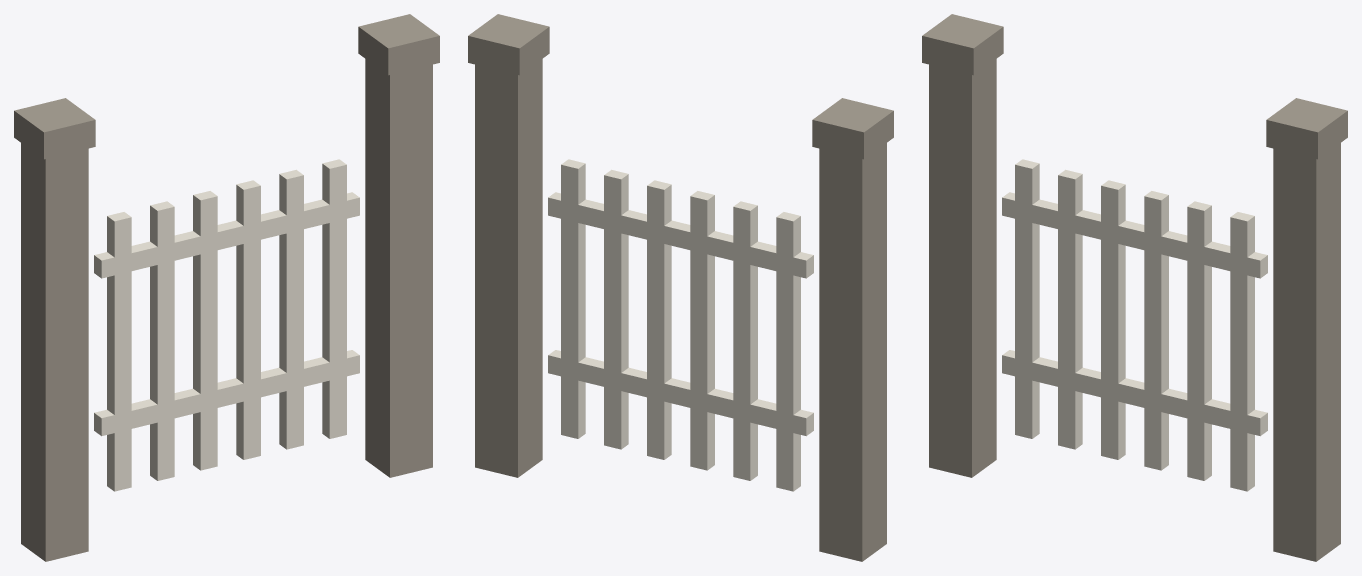
File: garden2_garden_gate.glb
3 renders of one model, left to right at view 1: azimuth 30°, elevation 25°; view 2: azimuth 150°, elevation 25°; view 3: azimuth 330°, elevation 25°, orthographic.
Parts seen in each view (by area): view 1: garden_gate; view 2: garden_gate; view 3: garden_gate.
Boxes of the visible parts, x1,y1,x2,y2 form: garden_gate: (14,14,439,561); garden_gate: (468,14,893,561); garden_gate: (922,14,1347,561).
Bounding box in the file's own units: 0.92 × 0.96 × 0.12.
